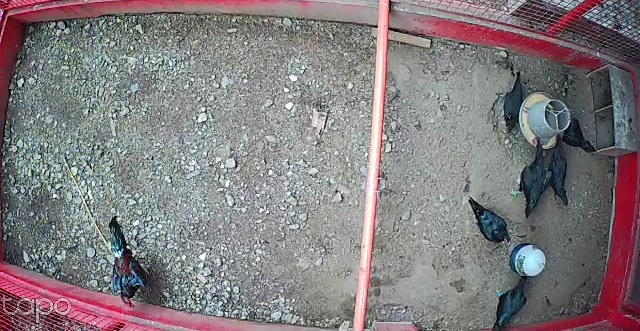Chicken: (510, 134, 552, 218), (543, 133, 576, 208), (467, 195, 513, 247), (490, 273, 530, 331), (563, 117, 600, 156), (503, 70, 524, 135)
Drinker: (509, 241, 547, 278)
Feeder: (518, 93, 573, 149)
Rooster: (106, 214, 156, 318)
